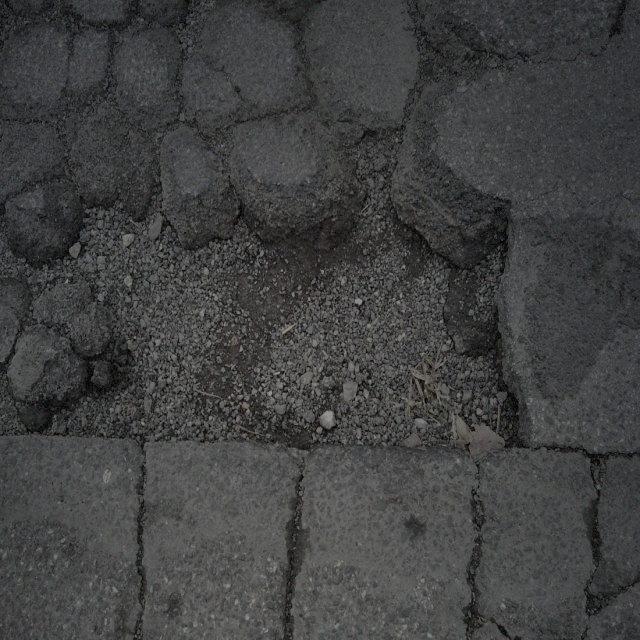pothole: (55, 167, 544, 472)
